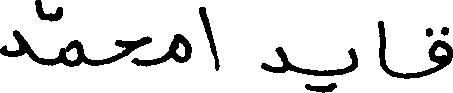X: (0, 0, 45, 69), (60, 2, 84, 71), (427, 22, 452, 79), (200, 2, 219, 75), (116, 31, 149, 71), (262, 42, 288, 77), (172, 29, 189, 67), (379, 16, 386, 77), (346, 43, 357, 77)
